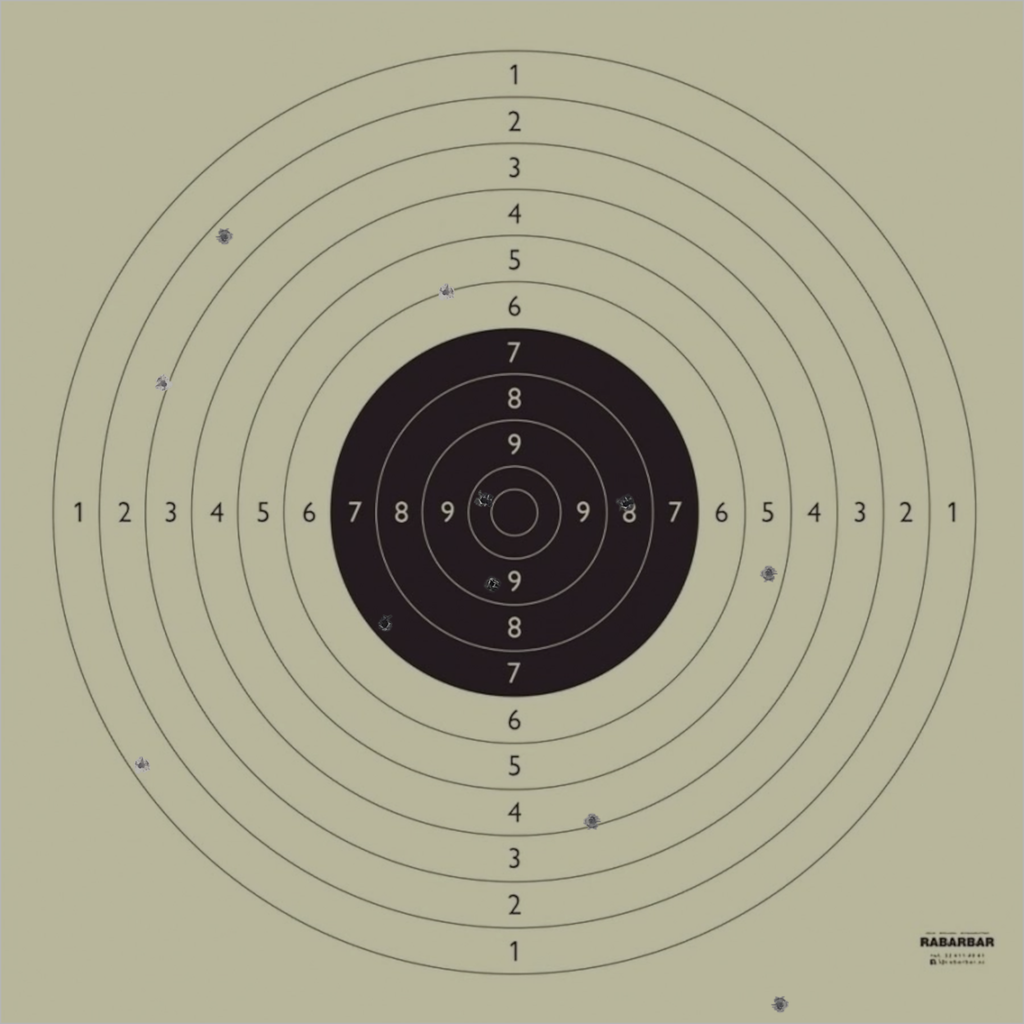0 punktow: (771, 996, 789, 1014)
1 punkt: (132, 756, 151, 774)
10 punktow: (475, 491, 494, 510)
2 punkty: (215, 228, 234, 246)
3 punkty: (154, 375, 173, 393)
4 punkty: (583, 812, 602, 830)
5 punktow: (760, 564, 778, 582)
6 punktow: (437, 283, 455, 301)
7 punktow: (376, 614, 394, 633)
8 punktow: (616, 495, 635, 513)
9 punktow: (483, 574, 501, 593)
